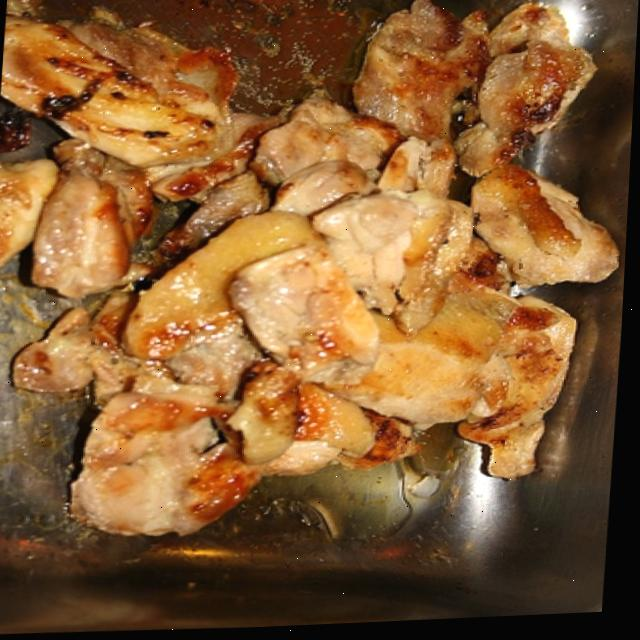猪肉菜式: (0, 0, 619, 572)
